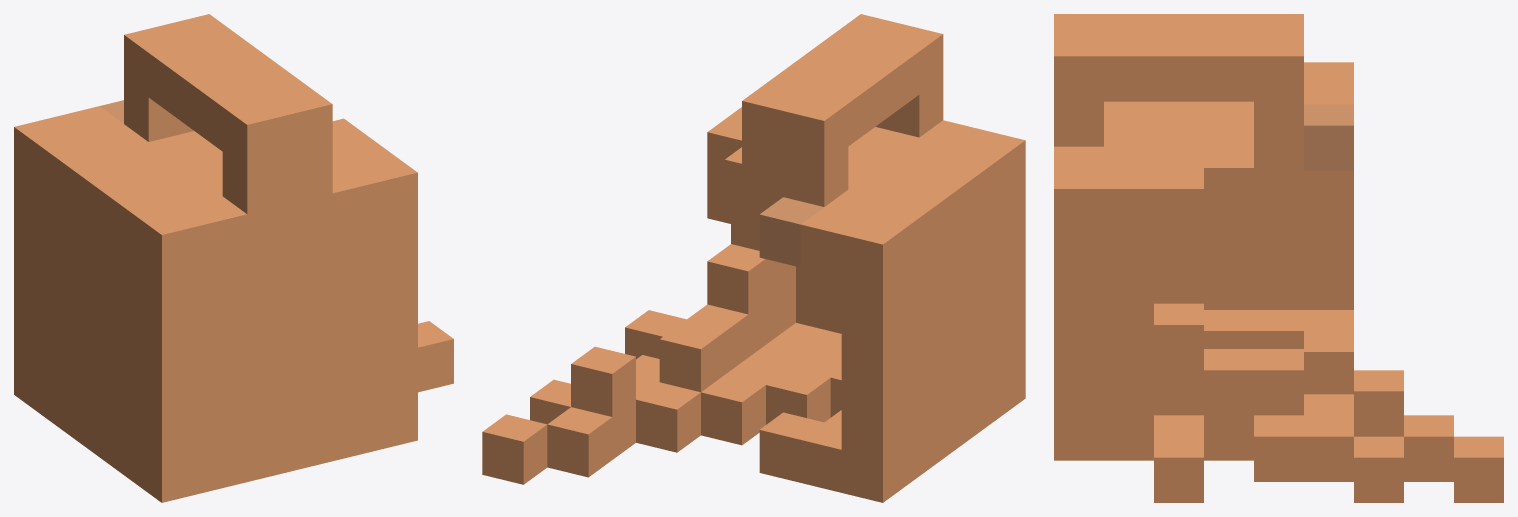
File: light-brownDestroy.obj
3 views of the same model, side by side, from view 1: azimuth 30°, elevation 25°; view 2: azimuth 150°, elevation 25°; view 3: azimuth 270°, elevation 25° (orthographic). The views are drawn at different scales.
Bounding box in the file's own units: 0.8 × 0.8 × 0.9.
Materials: 1 (1 with a texture image).
